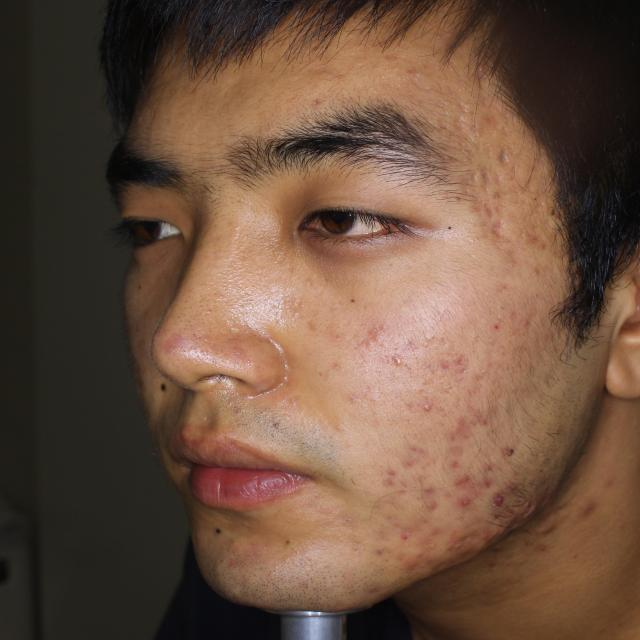acne: (478, 215, 522, 251), (398, 445, 434, 478), (490, 506, 519, 536), (473, 189, 508, 213), (448, 411, 476, 440), (442, 353, 472, 380), (525, 228, 554, 255), (442, 526, 483, 545), (414, 494, 442, 521), (404, 58, 432, 83), (372, 469, 401, 492), (451, 495, 476, 519), (500, 479, 530, 499), (398, 553, 431, 571), (468, 475, 500, 493), (514, 312, 540, 333), (384, 529, 414, 547), (478, 116, 505, 136), (443, 442, 469, 461), (420, 395, 440, 407), (450, 468, 465, 483), (492, 493, 502, 499)
